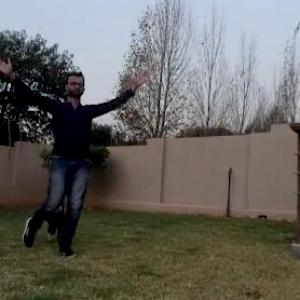takeoff: (0, 73, 124, 256)
